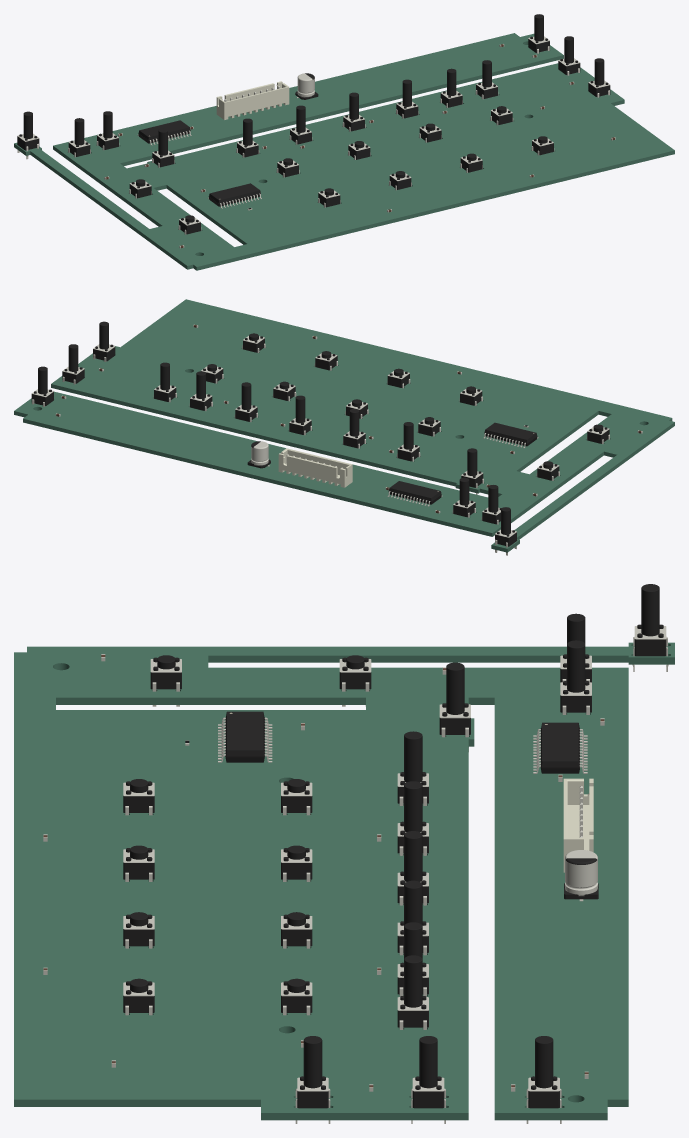
The model's file is dj-deck-front.glb.
3 renders of one model, top to bottom at view 1: azimuth 30°, elevation 25°; view 2: azimuth 150°, elevation 25°; view 3: azimuth 270°, elevation 25°, orthographic. The views are drawn at different scales.
Parts seen in each view (by area): view 1: =>[0:1:1:16], =>[0:1:1:7] (×13), =>[0:1:1:11], =>[0:1:1:13] (×2), =>[0:1:1:15]; view 2: =>[0:1:1:16], =>[0:1:1:7] (×13), =>[0:1:1:11], =>[0:1:1:13] (×2), =>[0:1:1:15]; view 3: =>[0:1:1:16], =>[0:1:1:7] (×13), =>[0:1:1:5] (×10), =>[0:1:1:13] (×2), =>[0:1:1:11], =>[0:1:1:15].
Boxes of the visible parts, x1,y1,x2,y2 form: =>[0:1:1:16]: (14, 33, 674, 270); =>[0:1:1:7] (×13): (17, 14, 610, 167); =>[0:1:1:11]: (216, 81, 289, 119); =>[0:1:1:13] (×2): (137, 120, 261, 208); =>[0:1:1:15]: (295, 73, 318, 99); =>[0:1:1:16]: (14, 299, 674, 552); =>[0:1:1:7] (×13): (31, 321, 516, 555); =>[0:1:1:11]: (278, 448, 352, 487); =>[0:1:1:13] (×2): (387, 422, 538, 506); =>[0:1:1:15]: (247, 441, 270, 468); =>[0:1:1:16]: (14, 642, 674, 1120); =>[0:1:1:7] (×13): (295, 584, 668, 1123); =>[0:1:1:5] (×10): (123, 655, 371, 1015); =>[0:1:1:13] (×2): (218, 711, 587, 773); =>[0:1:1:11]: (563, 778, 593, 872); =>[0:1:1:15]: (564, 850, 598, 901).
Bounding box in the file's own units: 0.2119 × 0.0165 × 0.1258.
